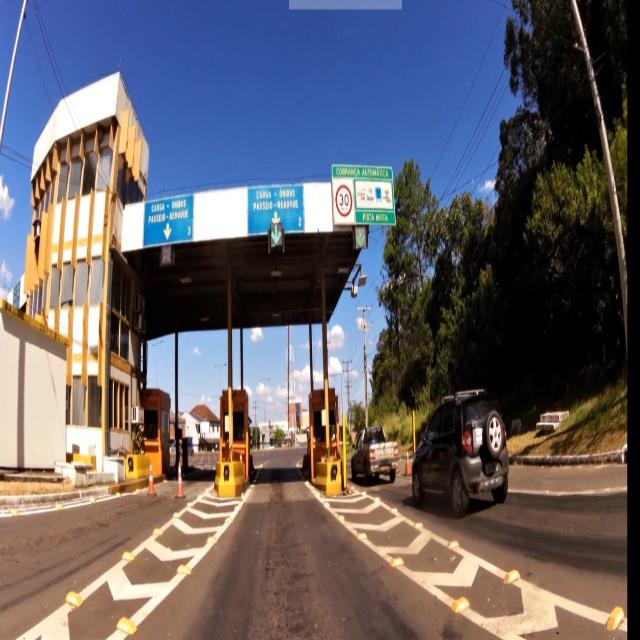LOC-6: (246, 187, 301, 220), (146, 202, 190, 242)
